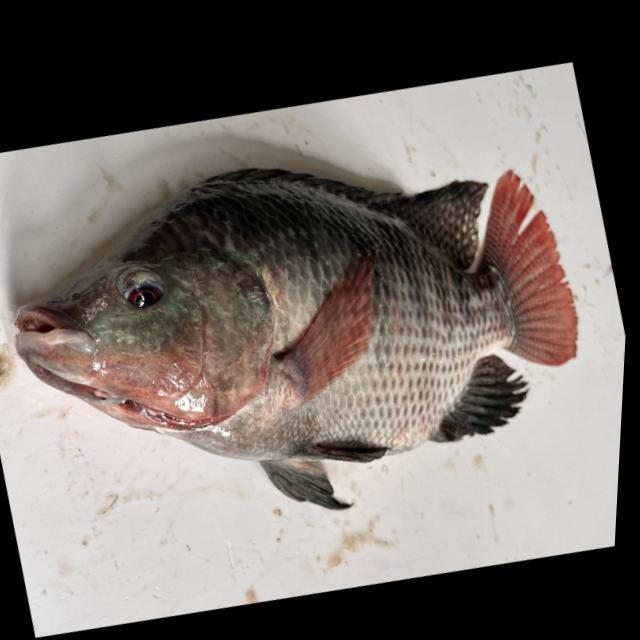Tilapia: (0, 66, 631, 604)
